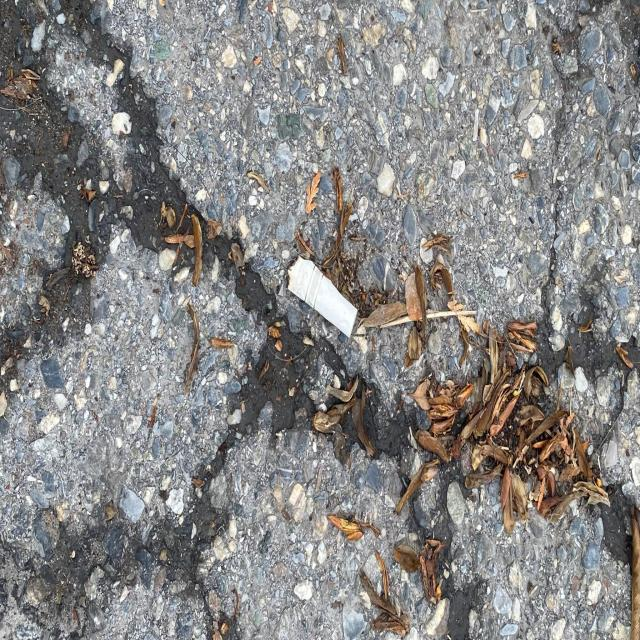other waste: (286, 253, 358, 339)
